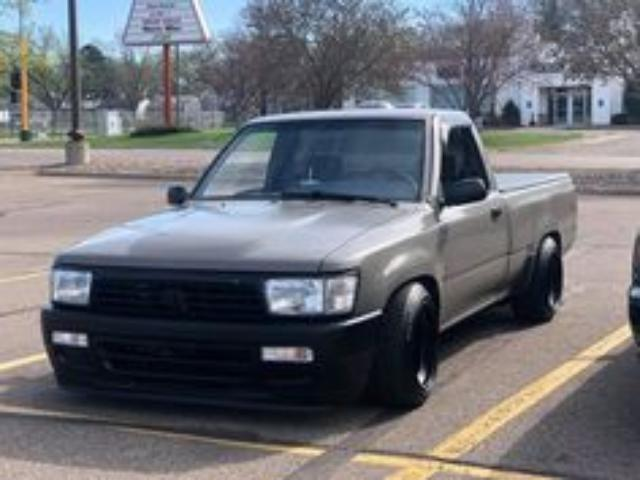pickup-truck: (39, 106, 579, 412)
